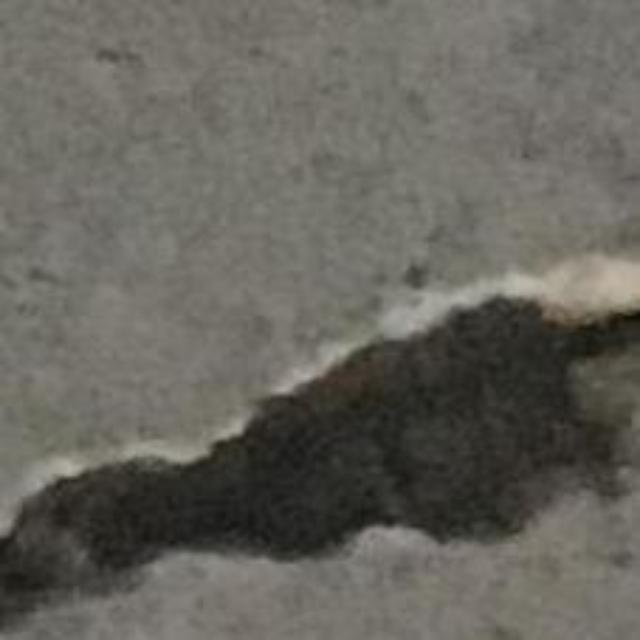crack: (0, 297, 639, 625)
